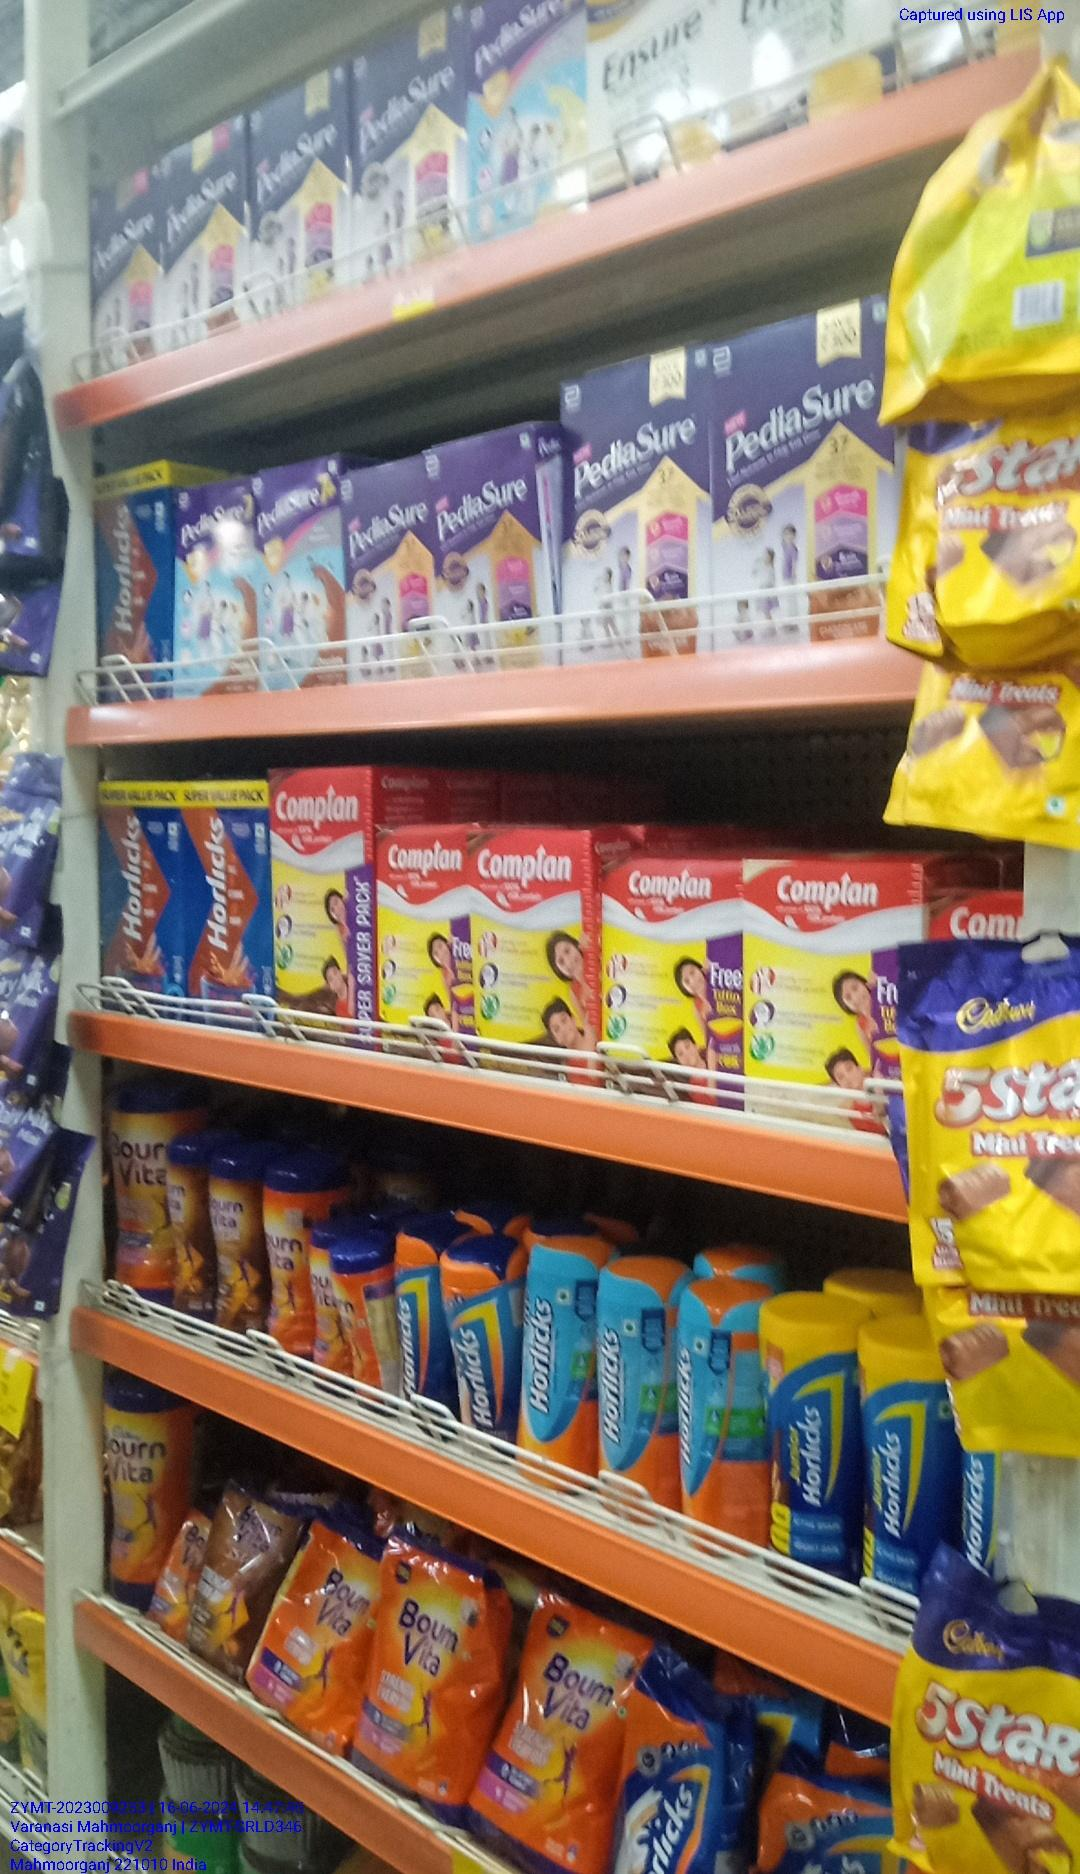BOURN_VITA_1_KG_JAR: (100, 1385, 175, 1606), (104, 1088, 156, 1303)
BOURN_VITA_500_G_POUCH: (268, 1520, 364, 1759)
BOURN_VITA_750_G_POUCH: (498, 1595, 628, 1874), (366, 1543, 484, 1816)
BOURN_VITA_FIVE_STAR_MAGIC_500_G_JAR: (207, 1156, 263, 1359), (160, 1136, 203, 1327)
BOURN_VITA_FIVE_STAR_MAGIC_500_G_POUCH: (200, 1487, 265, 1675)
COMPLAN_KESAR_BADAM_200_GMS_PACK: (740, 858, 891, 1140)
HORLICKS_JUNIOR_VANILLA_500_GM_JAR: (762, 1313, 856, 1600), (862, 1323, 936, 1633)
HORLICKS_LITE_REGULAR_MALT_500_GM_JAR: (675, 1291, 757, 1556), (595, 1268, 667, 1529), (520, 1237, 592, 1498)
HORLICK_CHOCOLATE_1_KG_PACK: (180, 785, 270, 1031), (97, 781, 178, 1014), (94, 465, 166, 704)
PEDIASURE_7_PLUS_CHOCOLATE_400_G_PACK: (171, 483, 257, 698), (260, 461, 340, 687)
PEDIASURE_VANILLA_500_G_PACK: (427, 439, 545, 672), (342, 465, 429, 682)
